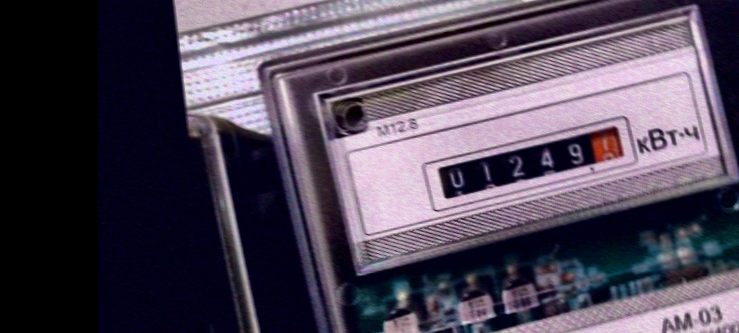0: (443, 162, 465, 190)
1: (475, 158, 493, 184)
2: (505, 152, 527, 180)
4: (536, 142, 557, 171)
7: (594, 128, 612, 153)
9: (565, 139, 585, 166)
screen: (413, 116, 653, 217)
